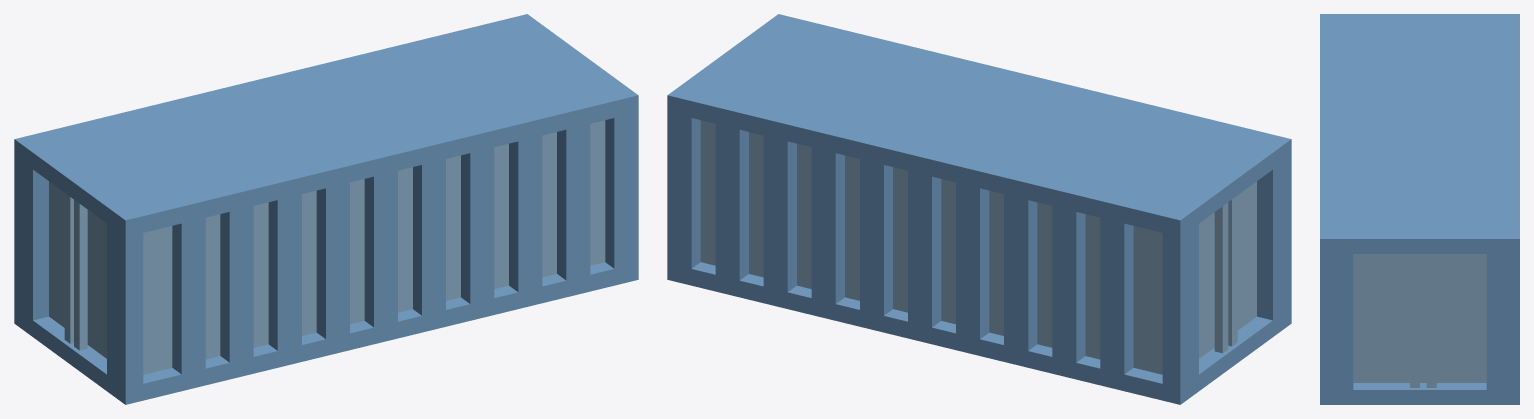
Rendered from ShippingContainerBlue.obj.
The picture shows the model from 3 angles, left to right: view 1: azimuth 30°, elevation 25°; view 2: azimuth 150°, elevation 25°; view 3: azimuth 270°, elevation 25°; orthographic projection. The views are drawn at different scales.
Parts seen in each view (by area): view 1: mergedBlocks; view 2: mergedBlocks; view 3: mergedBlocks.
Boxes of the visible parts, x1,y1,x2,y2 form: mergedBlocks: (14, 14, 638, 404); mergedBlocks: (667, 14, 1291, 404); mergedBlocks: (1320, 14, 1519, 404).
Size of the model in its own units: 3.2 by 1.1 by 1.2.
